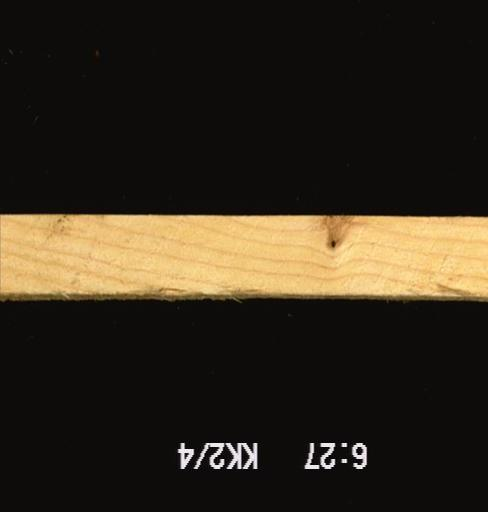small_knot: (329, 237, 337, 250)
split: (153, 287, 182, 293)
